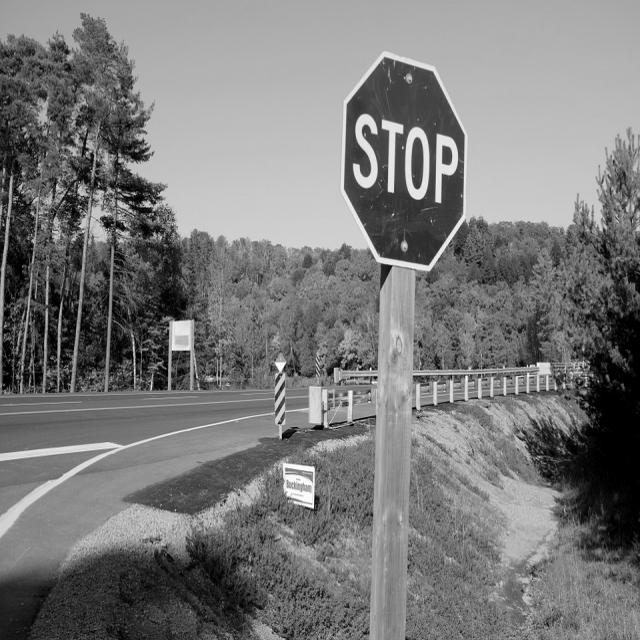Stop-sign: (332, 15, 473, 292)
